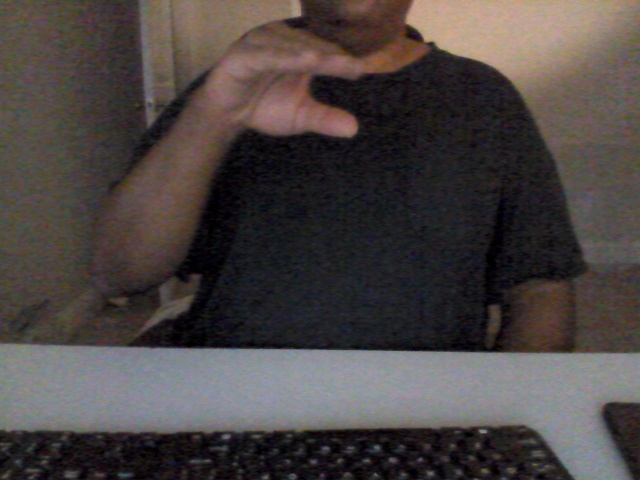no: (206, 18, 370, 145)
